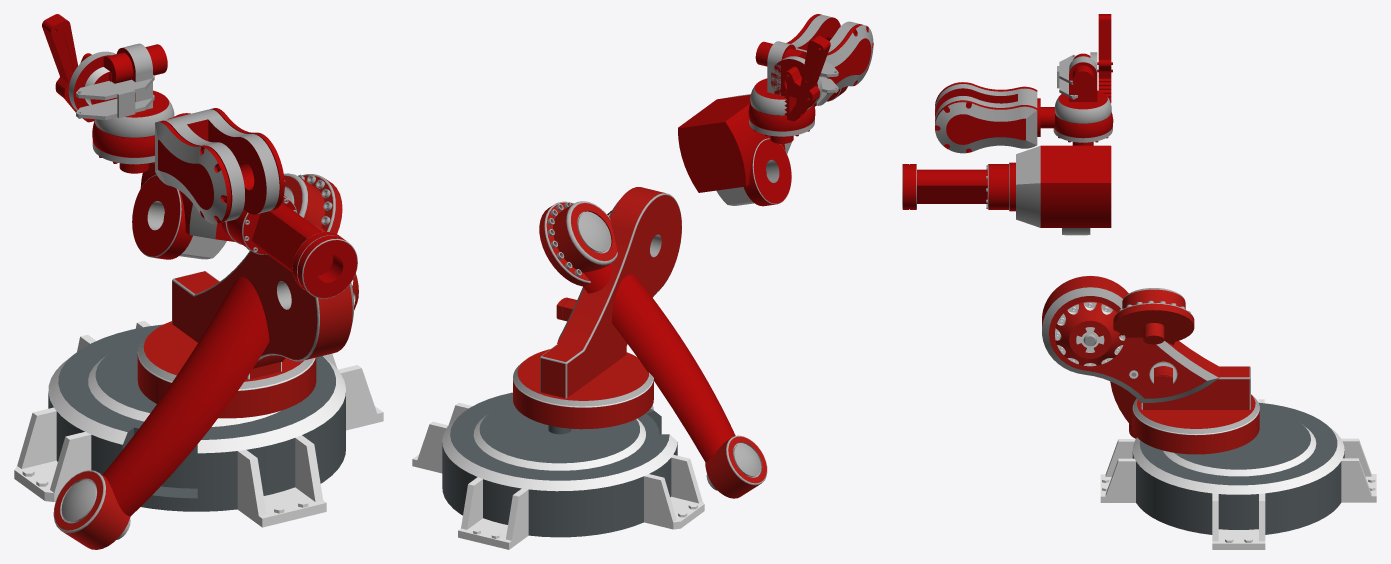
File: Robot Arm_assembled.glb
3 views of the same model, side by side, from view 1: azimuth 30°, elevation 25°; view 2: azimuth 150°, elevation 25°; view 3: azimuth 270°, elevation 25° (orthographic). The views are drawn at different scales.
Parts seen in each view (by area): view 1: Base, Upper Arm, Shoulder, Forearm, Wrist, Wrist Joint, Effector (×2), Gripper; view 2: Base, Shoulder, Upper Arm, Forearm, Wrist Joint, Wrist, Gripper, Effector; view 3: Base, Shoulder, Forearm, Wrist, Upper Arm, Wrist Joint, Gripper.
Part boxes in pixels (<box>): Base: <box>14,321,383,527</box>; Upper Arm: <box>53,173,342,549</box>; Shoulder: <box>137,220,358,418</box>; Forearm: <box>132,163,357,298</box>; Wrist: <box>155,108,284,224</box>; Wrist Joint: <box>92,43,174,173</box>; Effector (×2): <box>68,51,154,119</box>; Gripper: <box>42,14,94,122</box>; Base: <box>412,392,704,549</box>; Shoulder: <box>513,187,681,429</box>; Upper Arm: <box>539,201,767,498</box>; Forearm: <box>678,86,847,206</box>; Wrist Joint: <box>748,41,815,143</box>; Wrist: <box>786,14,873,105</box>; Gripper: <box>784,35,830,121</box>; Effector: <box>771,56,838,107</box>; Base: <box>1100,399,1376,549</box>; Shoulder: <box>1042,275,1259,454</box>; Forearm: <box>902,145,1111,235</box>; Wrist: <box>935,82,1054,153</box>; Upper Arm: <box>1110,288,1194,438</box>; Wrist Joint: <box>1053,53,1113,145</box>; Gripper: <box>1097,14,1112,102</box>.
Size of the model in its own units: 0.4799 by 0.6332 by 0.6714.
